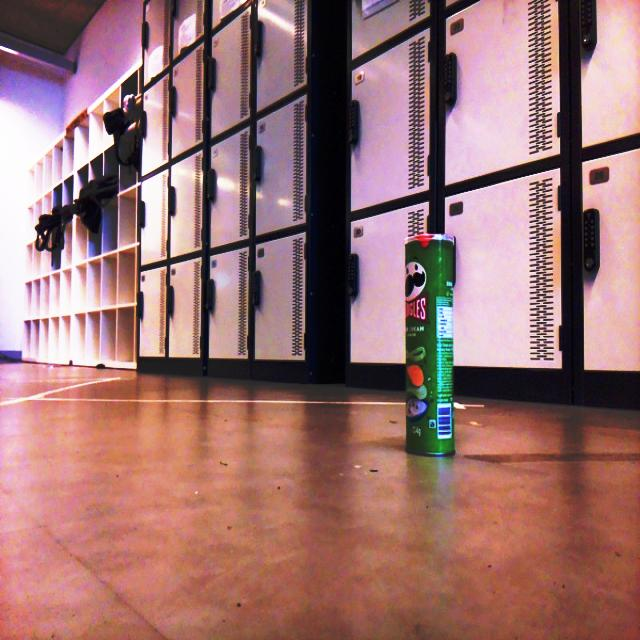greenpringles: (394, 217, 470, 482)
